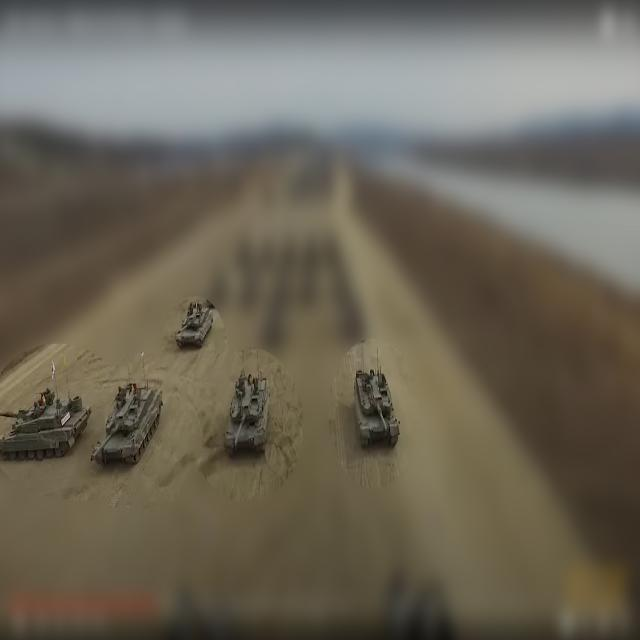tank: (0, 387, 91, 461), (94, 385, 164, 468), (353, 363, 400, 450), (223, 372, 270, 456), (174, 298, 213, 349)
